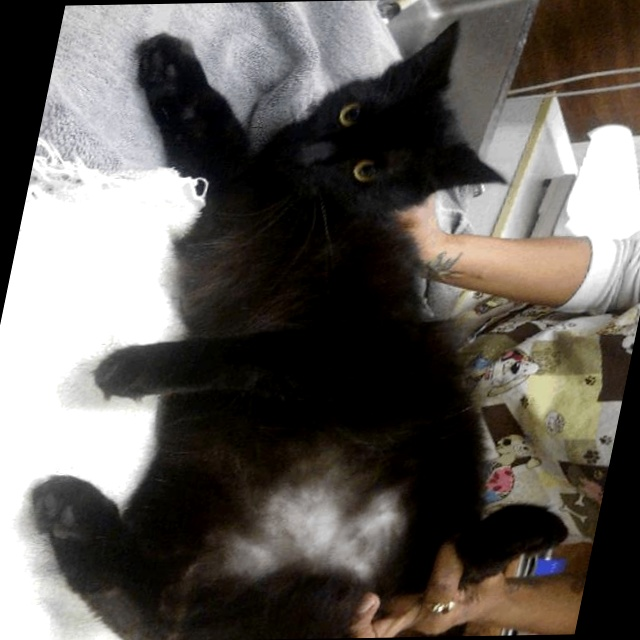hairloss: (218, 483, 408, 583)
